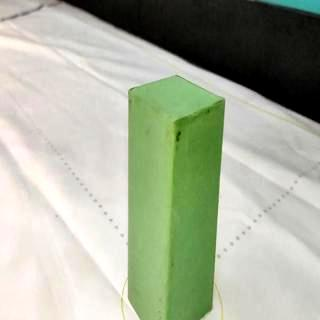greenbox: (126, 73, 226, 320)
